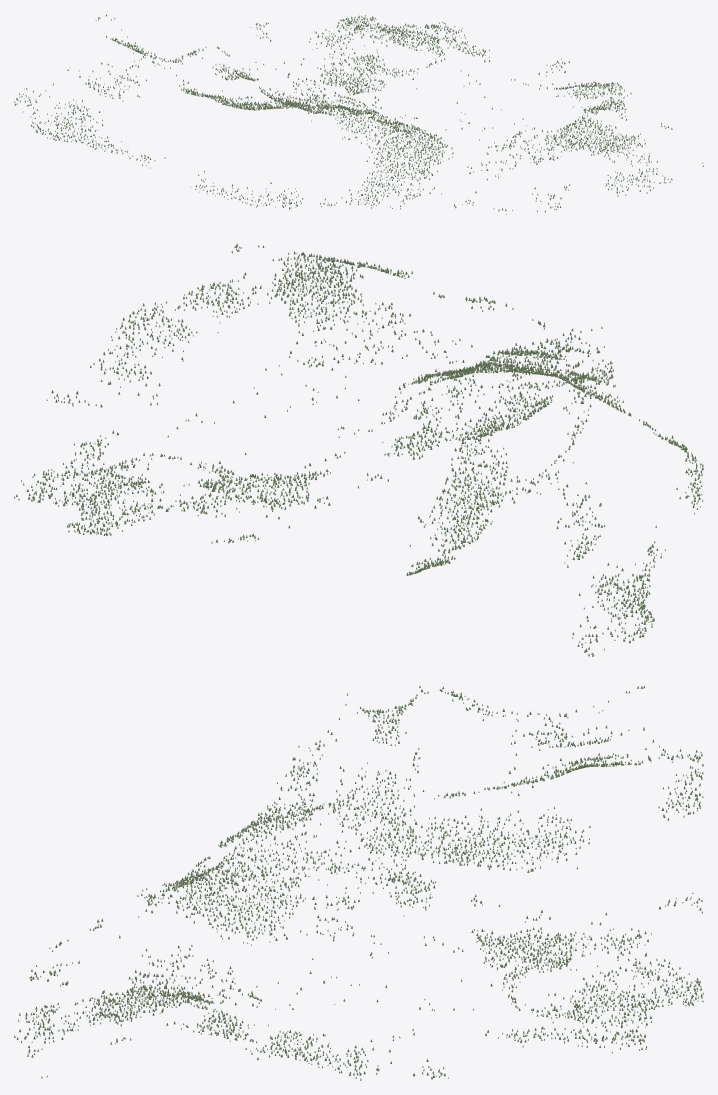
3 renders of one model, top to bottom at view 1: azimuth 30°, elevation 25°; view 2: azimuth 150°, elevation 25°; view 3: azimuth 270°, elevation 25°, orthographic. The views are drawn at different scales.
Visible parts, largest first — view 1: Forest 2.0, Forest 2.1; view 2: Forest 2.0, Forest 2.1; view 3: Forest 2.0, Forest 2.1.
Part boxes in pixels (x1,y1,x2,y2): Forest 2.0: (14, 14, 672, 209); Forest 2.1: (455, 139, 703, 214); Forest 2.0: (14, 243, 703, 656); Forest 2.1: (258, 245, 569, 350); Forest 2.0: (101, 685, 703, 1080); Forest 2.1: (14, 919, 106, 1078).
Bounding box in the file's own units: 4271 × 981 × 3879.
